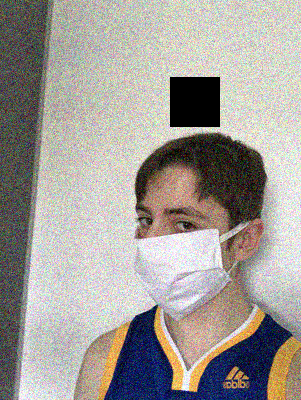with_mask: (132, 197, 230, 322)
